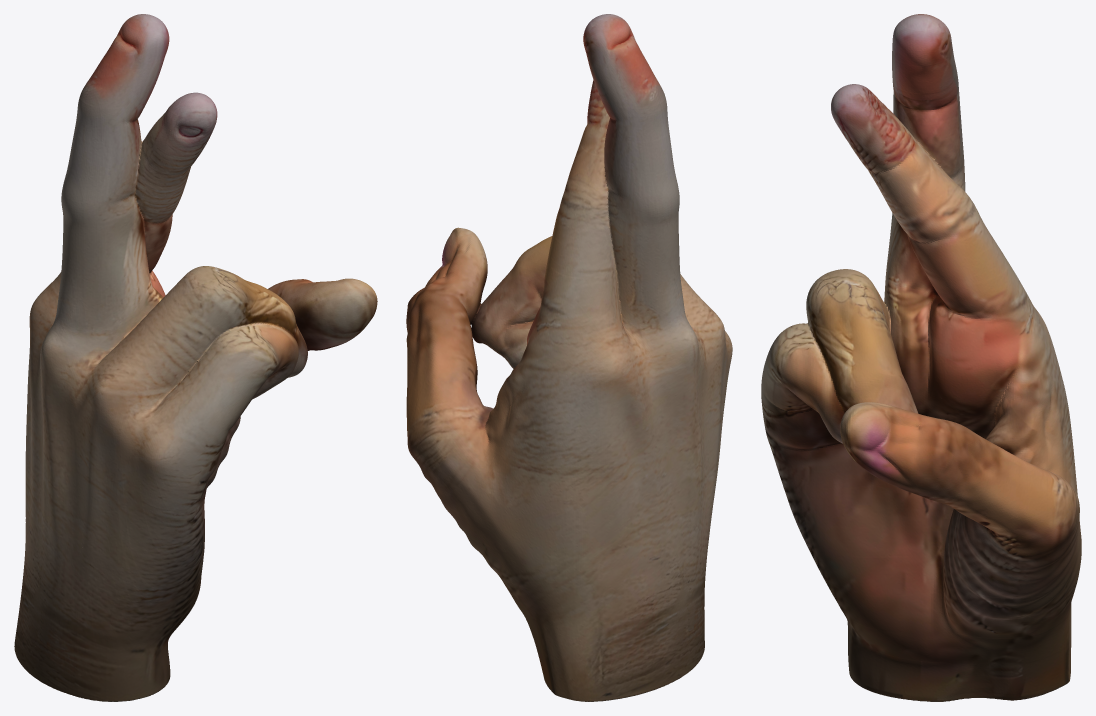
Rendered from letter_R.glb.
3 renders of one model, left to right at view 1: azimuth 30°, elevation 25°; view 2: azimuth 150°, elevation 25°; view 3: azimuth 270°, elevation 25°, orthographic. The views are drawn at different scales.
Visible parts, largest first — view 1: tripo_node_60ef52af-ce5e-4e79-b841-314eef7e6e20; view 2: tripo_node_60ef52af-ce5e-4e79-b841-314eef7e6e20; view 3: tripo_node_60ef52af-ce5e-4e79-b841-314eef7e6e20.
Part boxes in pixels (left/top/right/bottom): tripo_node_60ef52af-ce5e-4e79-b841-314eef7e6e20: left=14, top=14, right=377, bottom=701; tripo_node_60ef52af-ce5e-4e79-b841-314eef7e6e20: left=406, top=14, right=732, bottom=701; tripo_node_60ef52af-ce5e-4e79-b841-314eef7e6e20: left=761, top=14, right=1081, bottom=701.
Size of the model in its own units: 0.4793 by 1 by 0.4298.
1 material, 1 textured.
